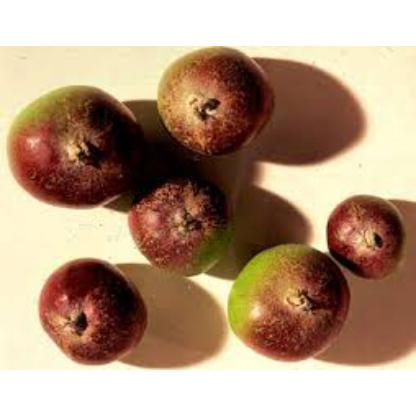damaged_apple: (6, 87, 142, 211), (222, 240, 352, 358), (157, 44, 278, 154), (35, 257, 152, 356), (120, 174, 228, 275), (324, 192, 408, 276)
